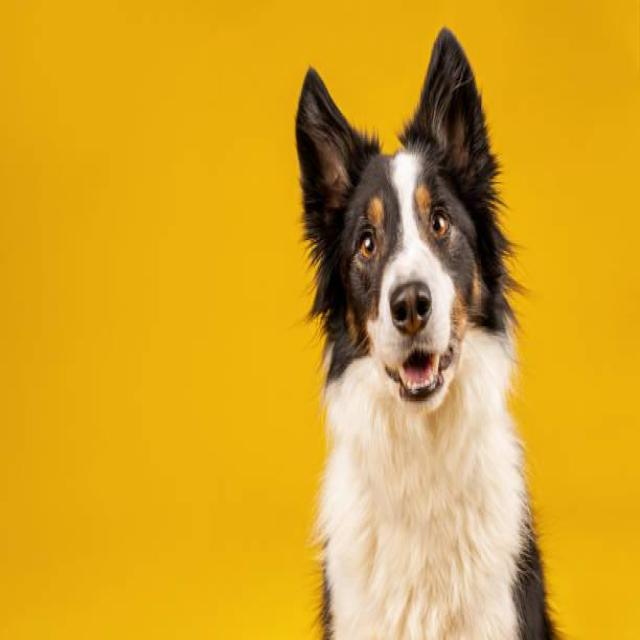Dog: (280, 21, 546, 420)
